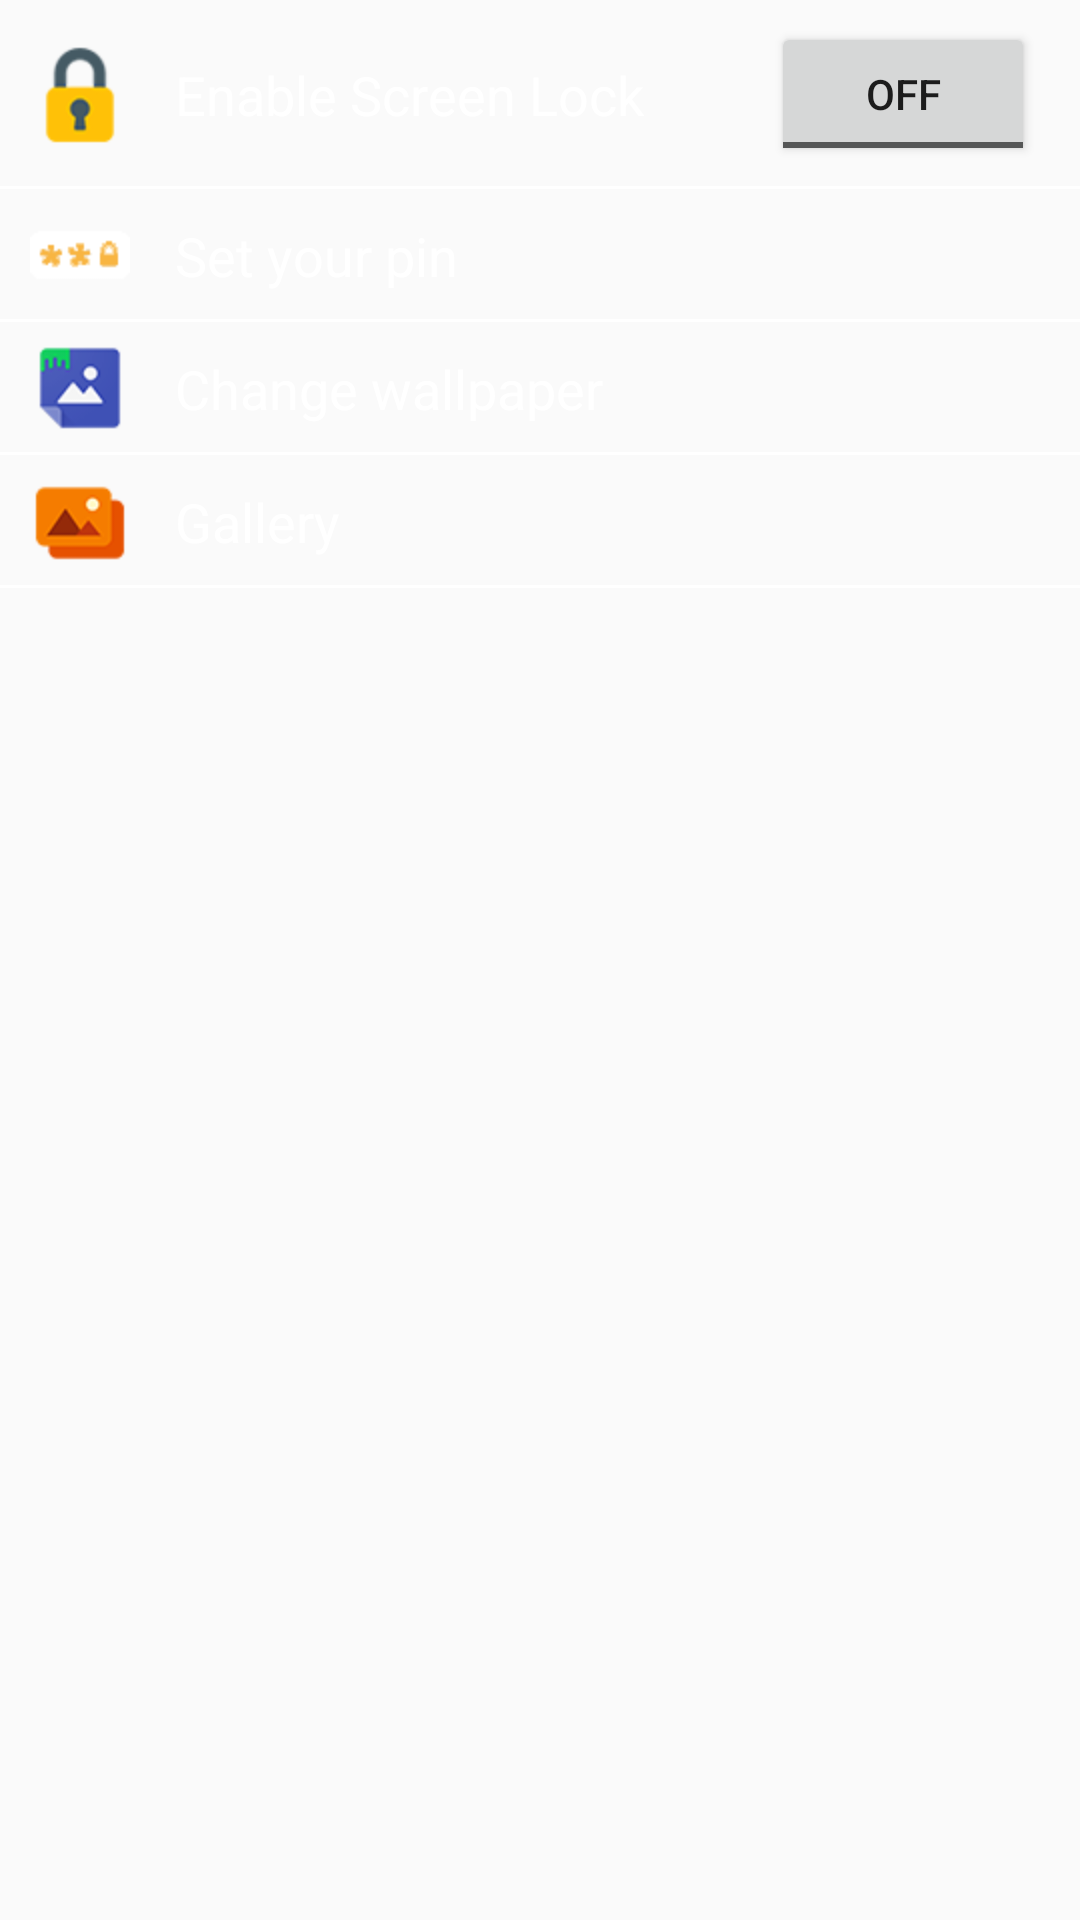

Locate icon controls on the screen. Image size 1080px×1920px, boxes as (x1, y1, x2, y2).
home lock: (45, 47, 115, 143)
home pass: (39, 240, 119, 268)
home wall peper: (39, 347, 121, 429)
